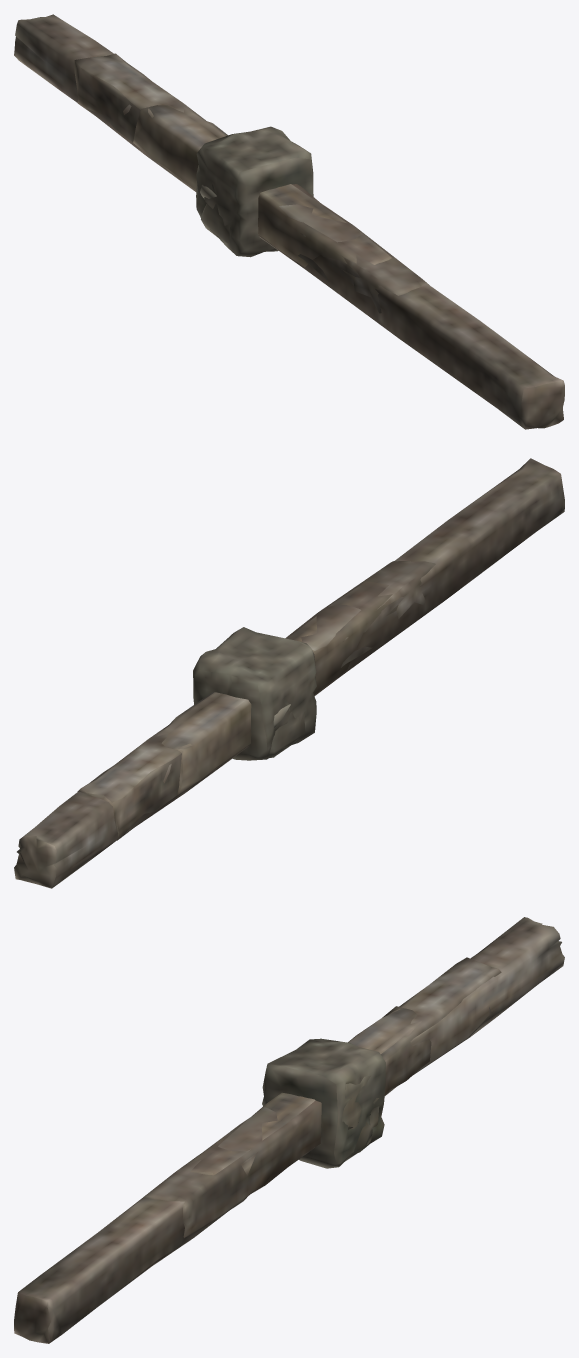
The model's file is Stones&Woodbeams.fbx.
The picture shows the model from 3 angles, top to bottom: view 1: azimuth 30°, elevation 25°; view 2: azimuth 150°, elevation 25°; view 3: azimuth 330°, elevation 25°; orthographic projection.
Visible parts, largest first — view 1: Wood_Beam_03, Wood_Beam_01, Building_block_03, Wood_Beam_02, Building_block_06; view 2: Wood_Beam_03, Building_block_03, Wood_Beam_02, Wood_Beam_01, Building_block_06; view 3: Wood_Beam_03, Wood_Beam_02, Building_block_03, Wood_Beam_01, Building_block_01.
Boxes of the visible parts, <box> form: Wood_Beam_03: <box>14,14,564,429</box>; Wood_Beam_01: <box>133,105,391,279</box>; Building_block_03: <box>196,126,313,257</box>; Wood_Beam_02: <box>74,53,428,313</box>; Building_block_06: <box>201,184,230,243</box>; Wood_Beam_03: <box>14,458,564,888</box>; Building_block_03: <box>193,627,316,760</box>; Wood_Beam_02: <box>77,561,435,840</box>; Wood_Beam_01: <box>157,581,398,795</box>; Building_block_06: <box>269,699,305,756</box>; Wood_Beam_03: <box>14,917,564,1343</box>; Wood_Beam_02: <box>143,957,501,1237</box>; Building_block_03: <box>262,1038,385,1168</box>; Wood_Beam_01: <box>186,1006,421,1175</box>; Building_block_01: <box>342,1075,379,1156</box>.
Size of the model in its own units: 57.47 by 64.72 by 637.
